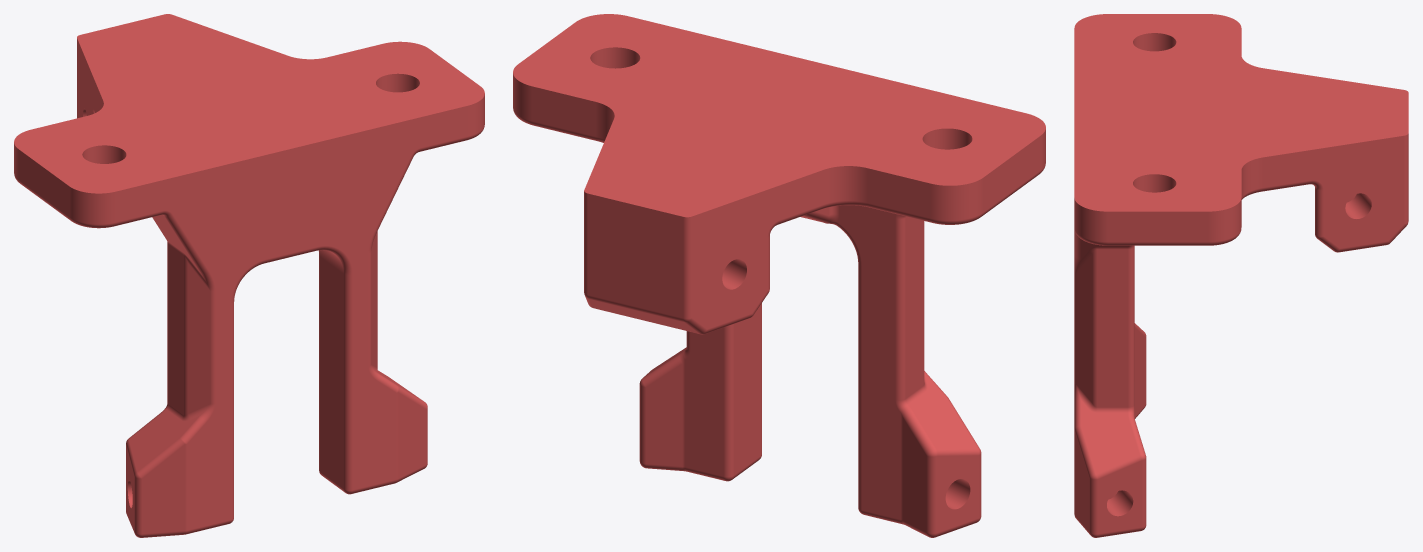
Rendered from fan_holder.fbx.
3 views of the same model, side by side, from view 1: azimuth 30°, elevation 25°; view 2: azimuth 150°, elevation 25°; view 3: azimuth 270°, elevation 25° (orthographic). The views are drawn at different scales.
Parts seen in each view (by area): view 1: Part 1; view 2: Part 1; view 3: Part 1.
Boxes of the visible parts, x1,y1,x2,y2 form: Part 1: [14, 14, 484, 537]; Part 1: [513, 14, 1045, 537]; Part 1: [1074, 14, 1408, 537].
Bounding box in the file's own units: 7 × 5.9 × 5.
